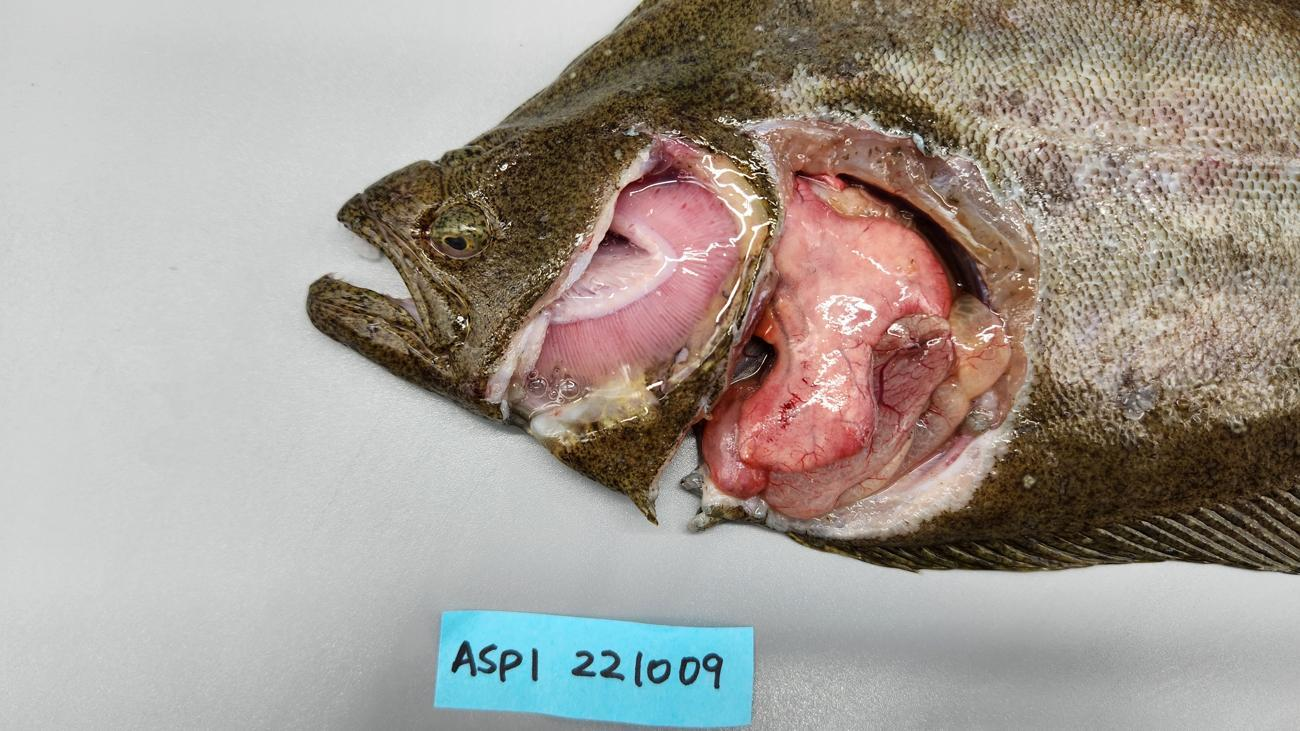SPGIP: (533, 178, 745, 392)
